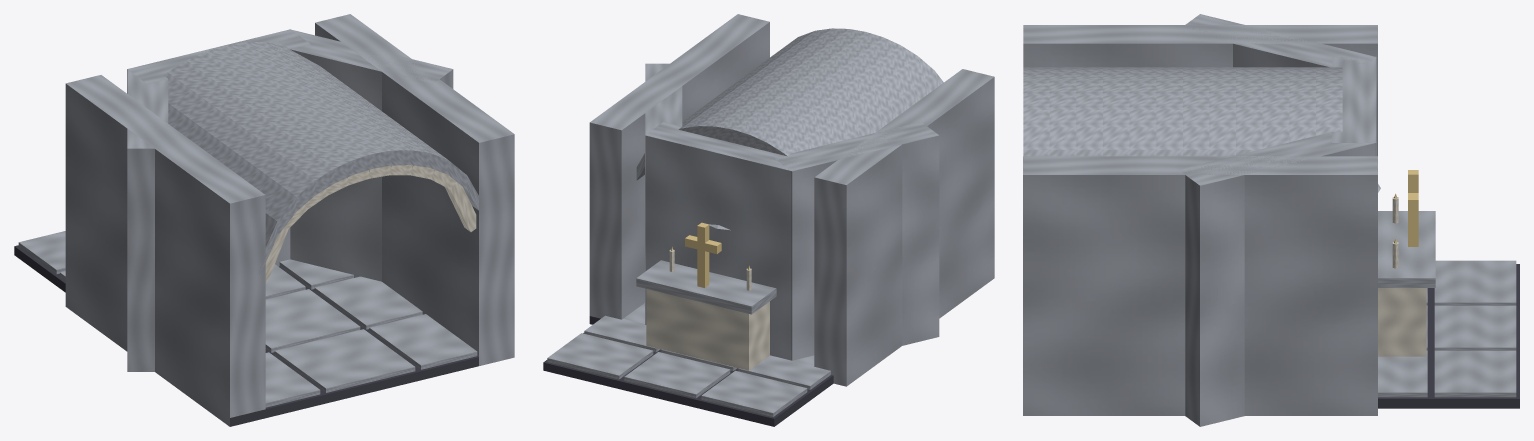
File: vampire-crypt-and-gothic-cathedral-crypt-chapel-8c8e1081__22983.glb
3 renders of one model, left to right at view 1: azimuth 30°, elevation 25°; view 2: azimuth 150°, elevation 25°; view 3: azimuth 270°, elevation 25°, orthographic. The views are drawn at different scales.
Parts seen in each view (by area): view 1: crypt-chapel; view 2: crypt-chapel; view 3: crypt-chapel.
Part boxes in pixels (x1,y1,x2,y2): crypt-chapel: [14, 14, 514, 426]; crypt-chapel: [543, 14, 994, 426]; crypt-chapel: [1023, 14, 1519, 426].
Size of the model in its own units: 4.58 by 3.2 by 5.6.
Materials: 4 (2 with a texture image).
